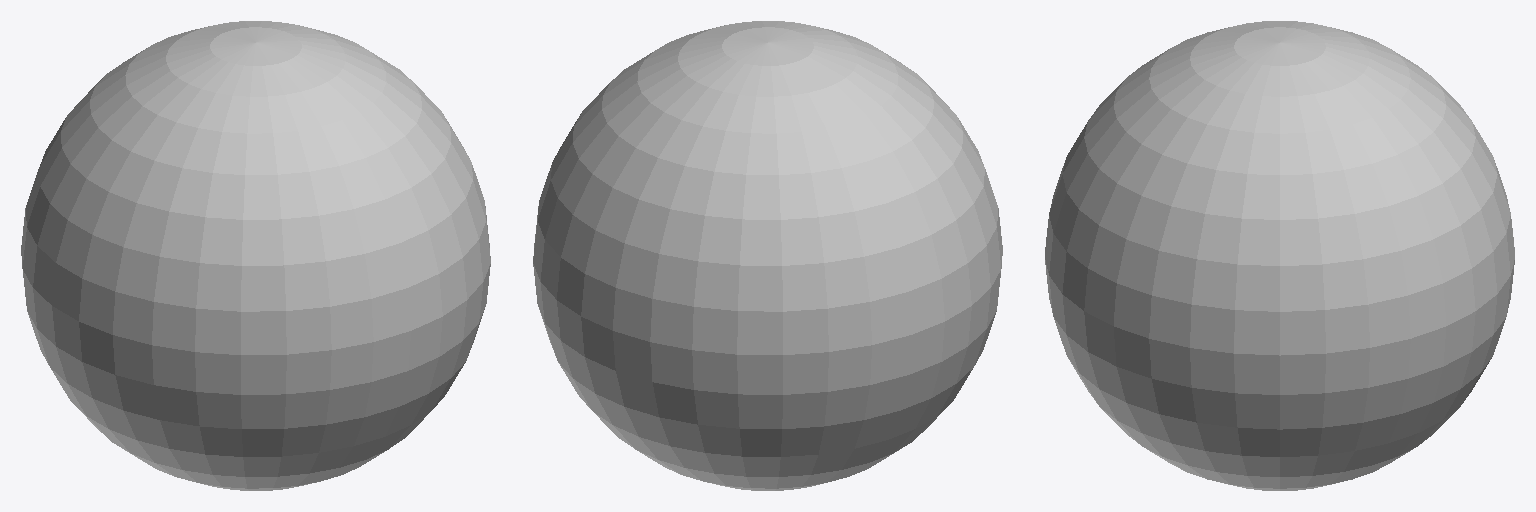
Rendered from eneboll.obj.
3 views of the same model, side by side, from view 1: azimuth 30°, elevation 25°; view 2: azimuth 150°, elevation 25°; view 3: azimuth 270°, elevation 25° (orthographic).
Visible parts, largest first — view 1: 球.004; view 2: 球.004; view 3: 球.004.
Part boxes in pixels (x1,y1,x2,y2): 球.004: (21, 21, 490, 490); 球.004: (533, 21, 1002, 490); 球.004: (1045, 21, 1514, 490).
Size of the model in its own units: 0.8 by 0.8 by 0.8.